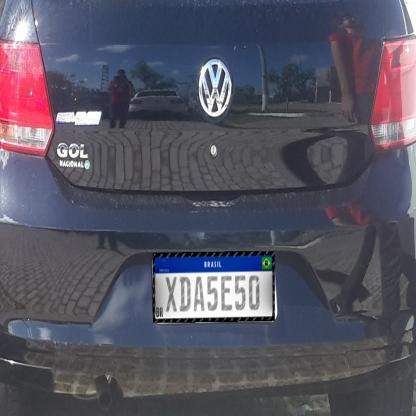PlacaM: (152, 251, 274, 323)
